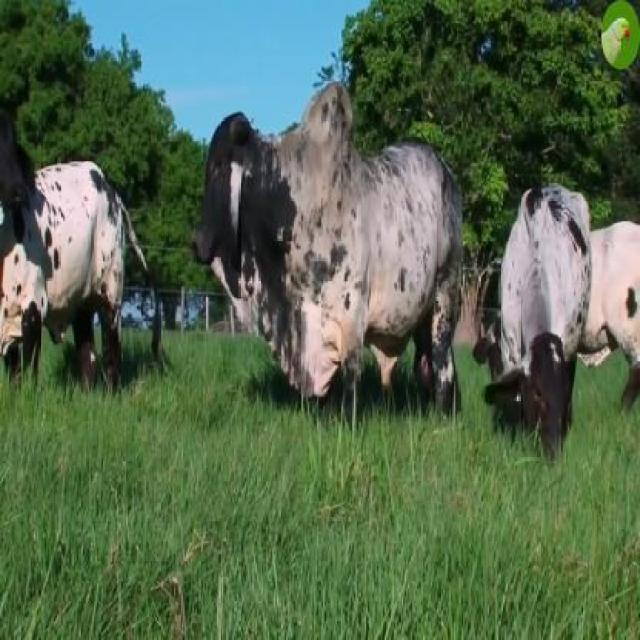Cow: (494, 185, 591, 460)
